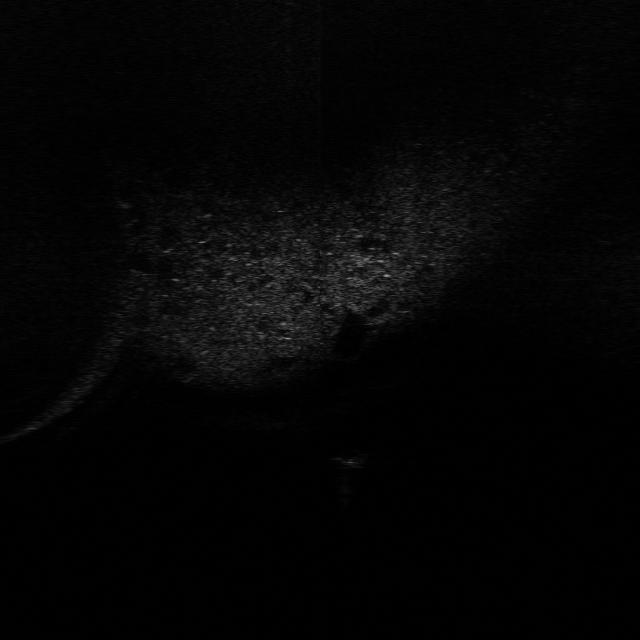cube: (322, 446, 376, 472)
